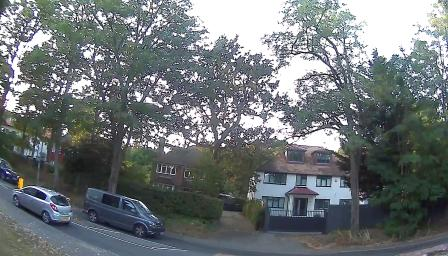Cars: (86, 180, 171, 244), (12, 180, 87, 232), (1, 159, 30, 184)
